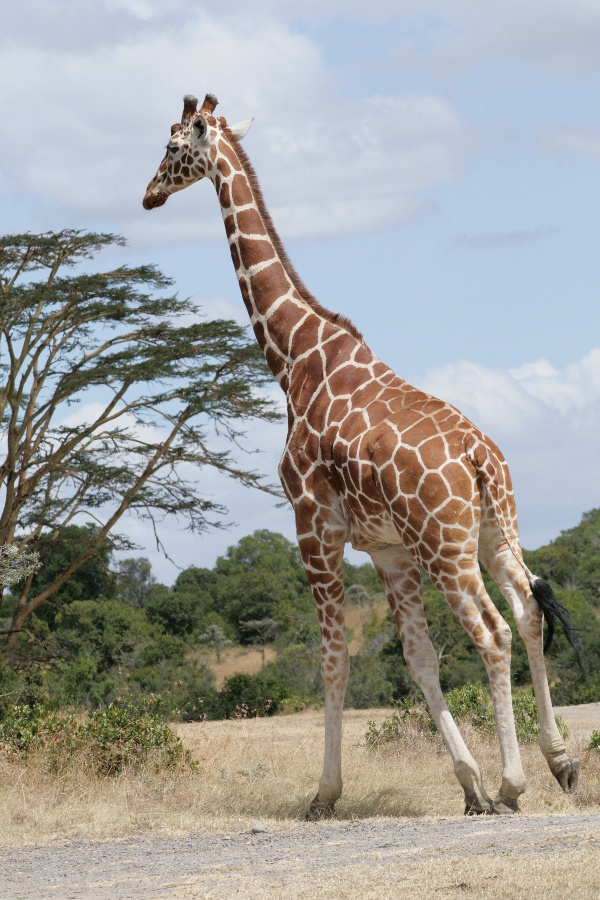giraffe: (138, 84, 589, 829)
